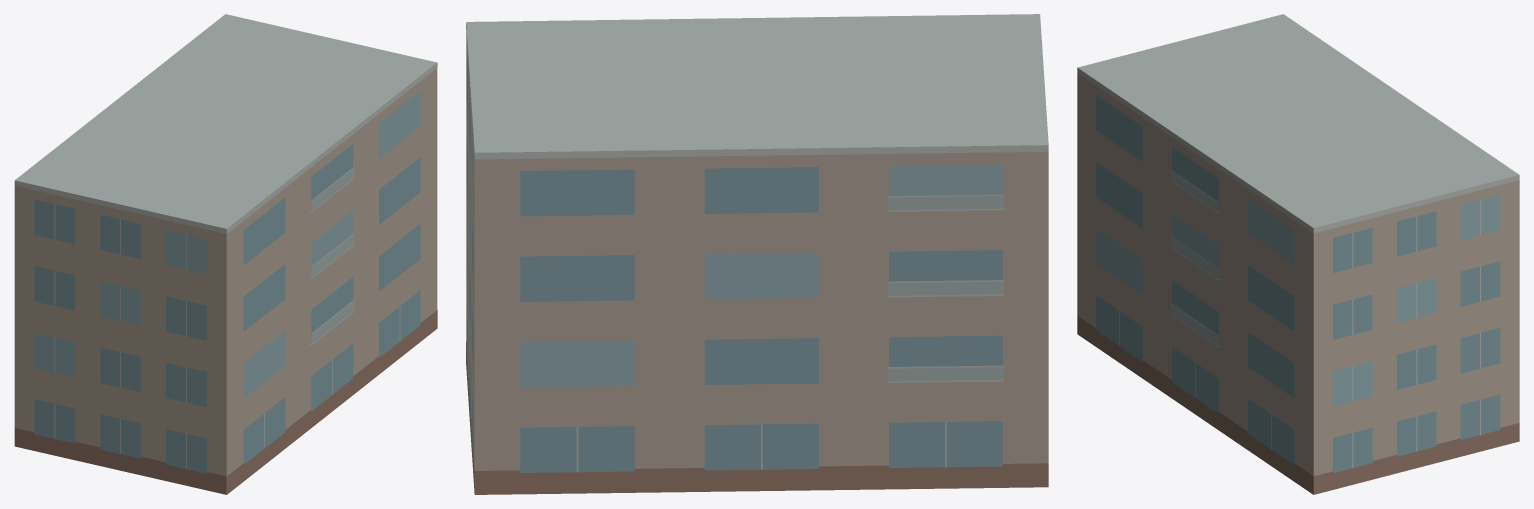
File: survey-upis-32910536.glb
The picture shows the model from 3 angles, left to right: view 1: azimuth 30°, elevation 25°; view 2: azimuth 150°, elevation 25°; view 3: azimuth 270°, elevation 25°; orthographic projection. The views are drawn at different scales.
Visible parts, largest first — view 1: survey-upis-32910536.tmp; view 2: survey-upis-32910536.tmp; view 3: survey-upis-32910536.tmp.
Boxes of the visible parts, x1,y1,x2,y2 form: survey-upis-32910536.tmp: (14,14,437,494); survey-upis-32910536.tmp: (466,14,1048,494); survey-upis-32910536.tmp: (1077,14,1519,494).
Bounding box in the file's own units: 21.54 × 12.5 × 18.79.
